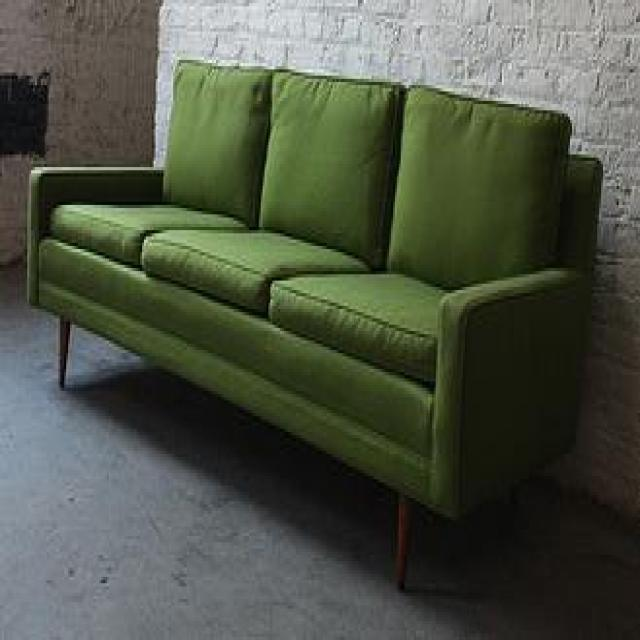sofa: (24, 50, 606, 592)
